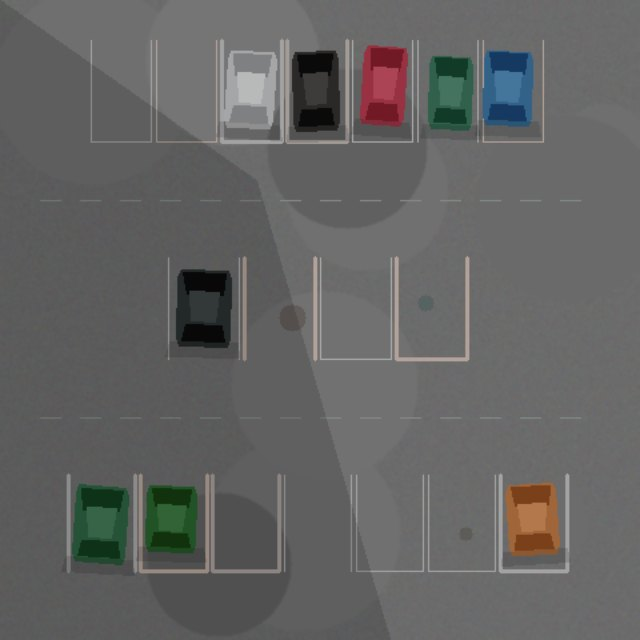space-empty: (244, 257, 315, 359), (320, 257, 391, 359), (396, 257, 467, 359), (212, 475, 279, 571), (284, 475, 351, 571), (356, 475, 423, 571), (428, 475, 495, 571), (91, 40, 151, 141), (156, 40, 216, 141)
space-occupied: (168, 257, 239, 359), (68, 475, 135, 571), (140, 475, 207, 571), (500, 475, 567, 571), (221, 40, 281, 141), (287, 40, 347, 141), (352, 40, 412, 141), (417, 40, 477, 141), (483, 40, 543, 141)
